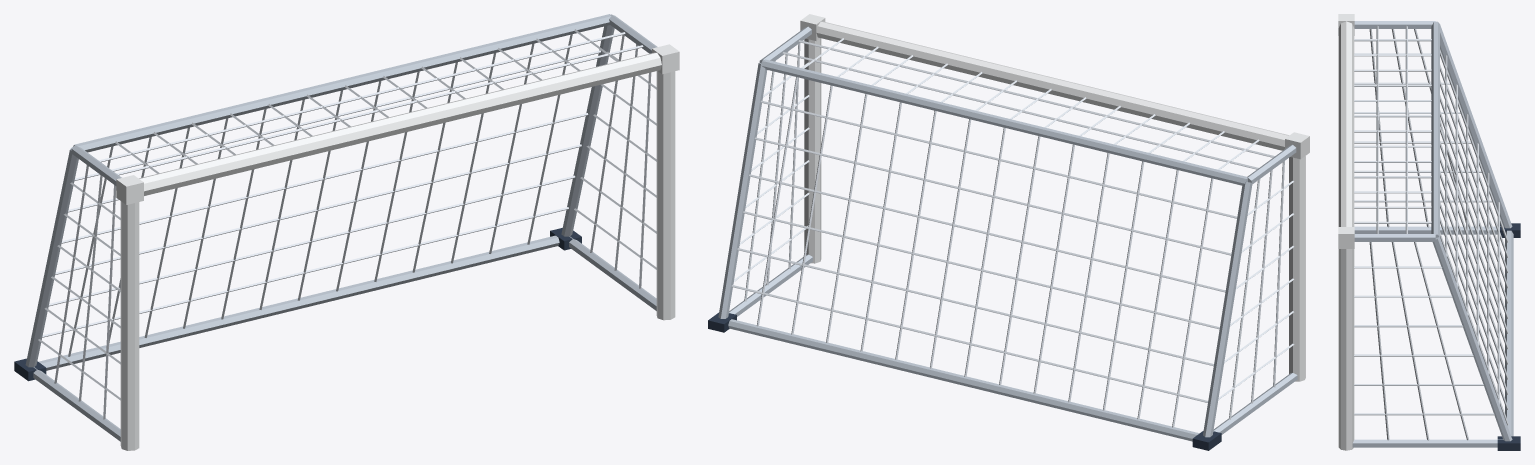
File: low_poly_goal_post.glb
3 renders of one model, left to right at view 1: azimuth 30°, elevation 25°; view 2: azimuth 150°, elevation 25°; view 3: azimuth 270°, elevation 25°, orthographic. The views are drawn at different scales.
Parts seen in each view (by area): view 1: Goal_Net, Goal_Main_Frame, Goal_Back_Support, Goal_Anchors; view 2: Goal_Net, Goal_Back_Support, Goal_Main_Frame, Goal_Anchors; view 3: Goal_Net, Goal_Back_Support, Goal_Main_Frame, Goal_Anchors.
Boxes of the visible parts, x1,y1,x2,y2 form: Goal_Net: (38, 29, 656, 419); Goal_Main_Frame: (116, 44, 679, 450); Goal_Back_Support: (25, 14, 657, 441); Goal_Anchors: (14, 228, 581, 381); Goal_Net: (731, 38, 1294, 427); Goal_Back_Support: (718, 26, 1297, 441); Goal_Main_Frame: (800, 14, 1309, 381); Goal_Anchors: (708, 312, 1221, 450); Goal_Net: (1354, 25, 1508, 440); Goal_Back_Support: (1352, 21, 1513, 447); Goal_Main_Frame: (1338, 14, 1354, 450); Goal_Anchors: (1497, 223, 1520, 450).
Bounding box in the file's own units: 4.96 × 2.28 × 1.74.
